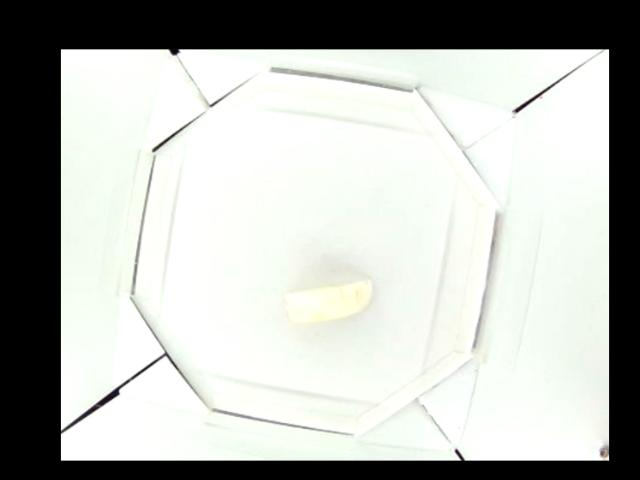Mooli: (287, 270, 371, 326)
